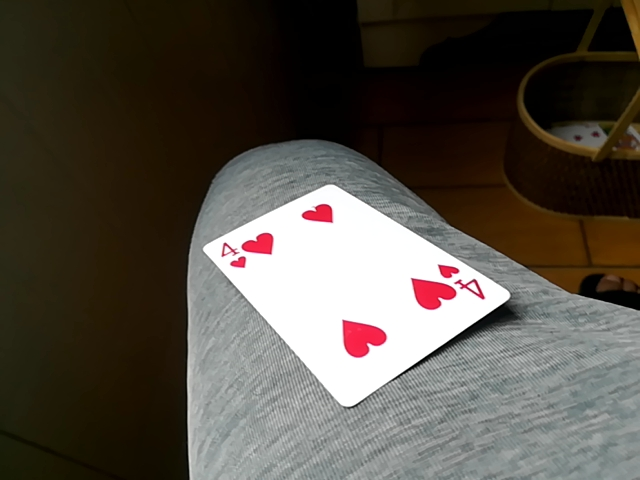hx 4: (199, 176, 515, 405)
